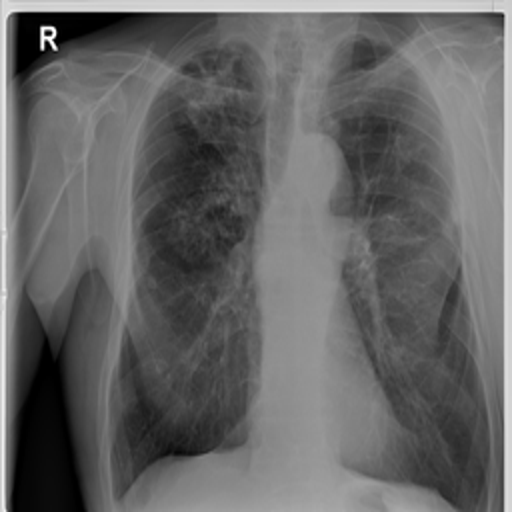TB: (178, 59, 254, 144), (180, 164, 252, 227)
